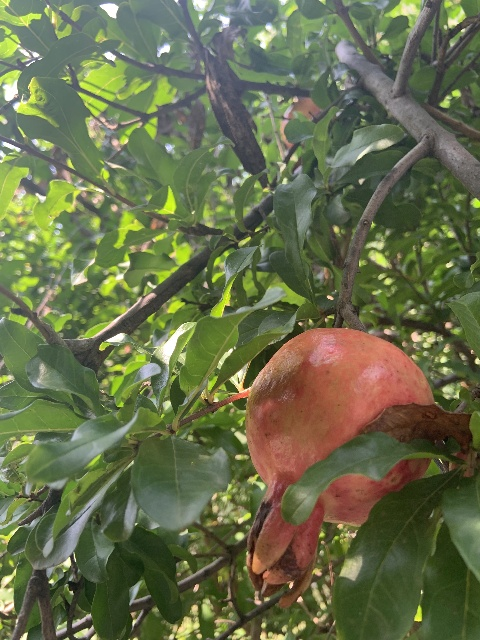ripe: (243, 327, 440, 603)
